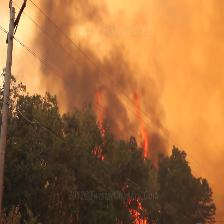fire: (90, 89, 156, 224)
smoke: (33, 0, 183, 115)
